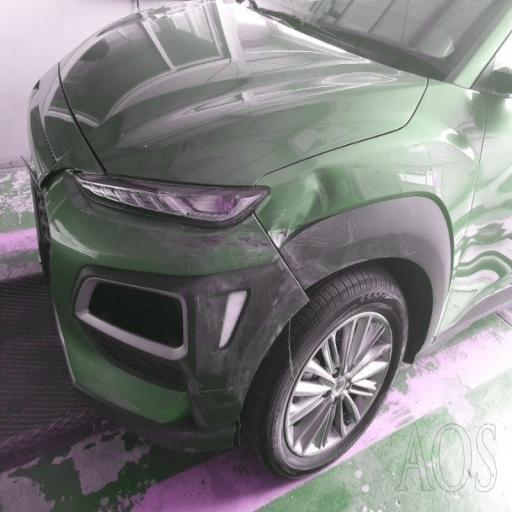broken: (198, 126, 333, 343)
dent: (268, 147, 506, 240)
